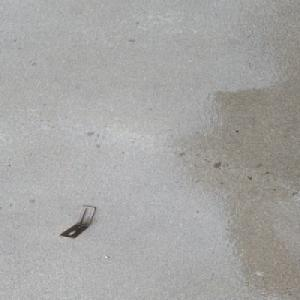MetalPart: (59, 205, 96, 239)
